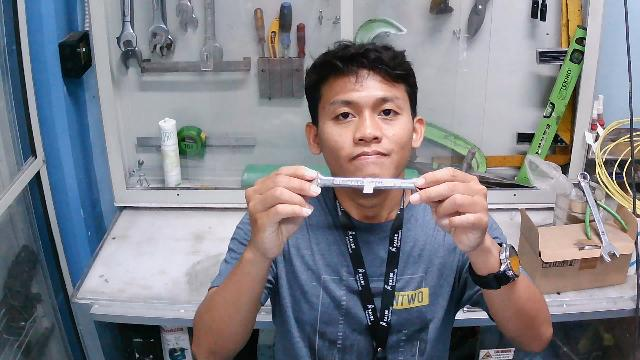kunci_pass_13: (296, 167, 445, 204)
